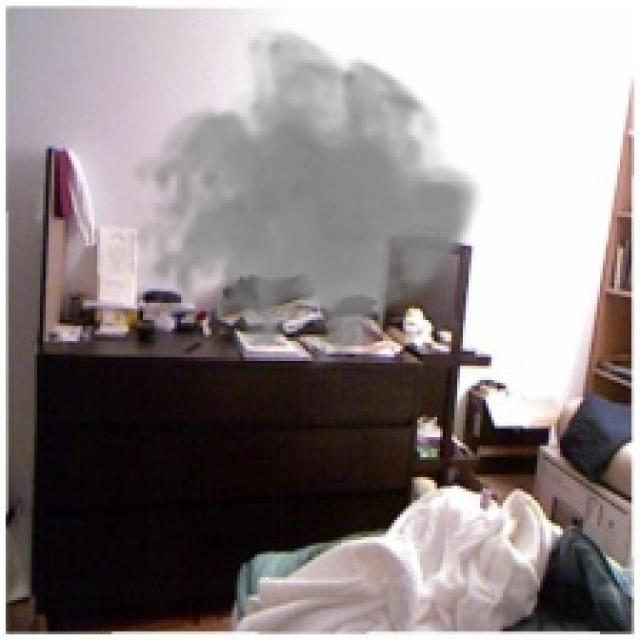smoke: (128, 23, 483, 383)
